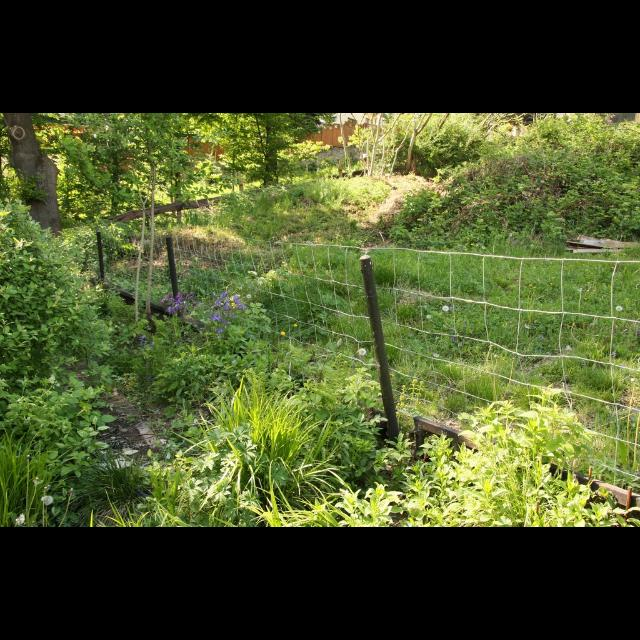Flower: (209, 292, 243, 336), (158, 290, 198, 316), (293, 322, 299, 328), (280, 332, 284, 336)
